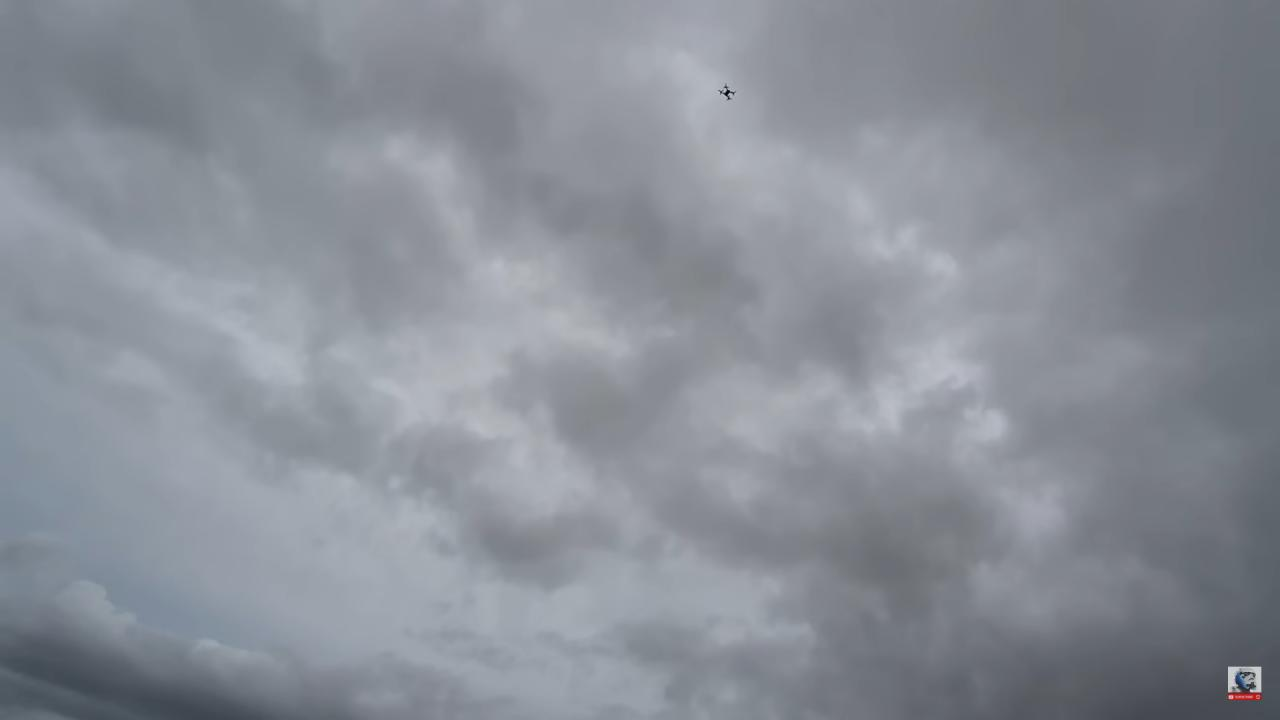Drone: (714, 80, 738, 99)
